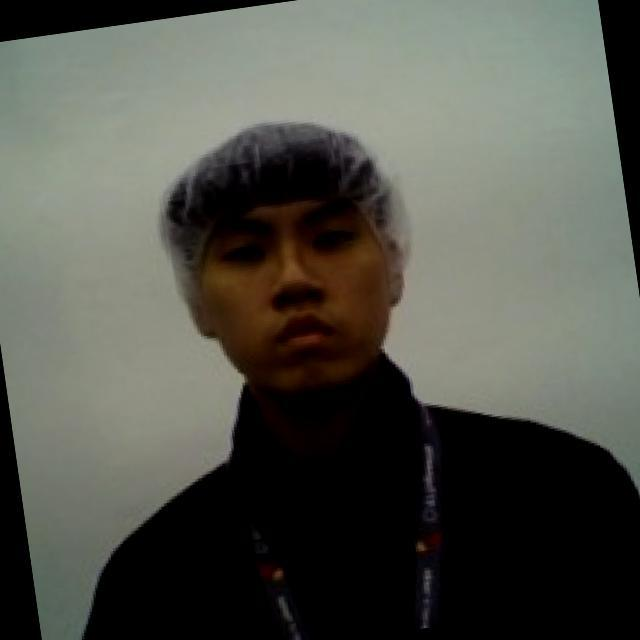gloves: (140, 99, 415, 337)
no_hairnet: (184, 235, 411, 420)
